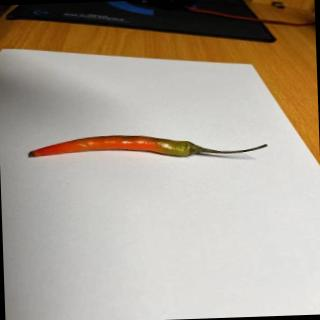Cabai Merah: (29, 131, 269, 163)
